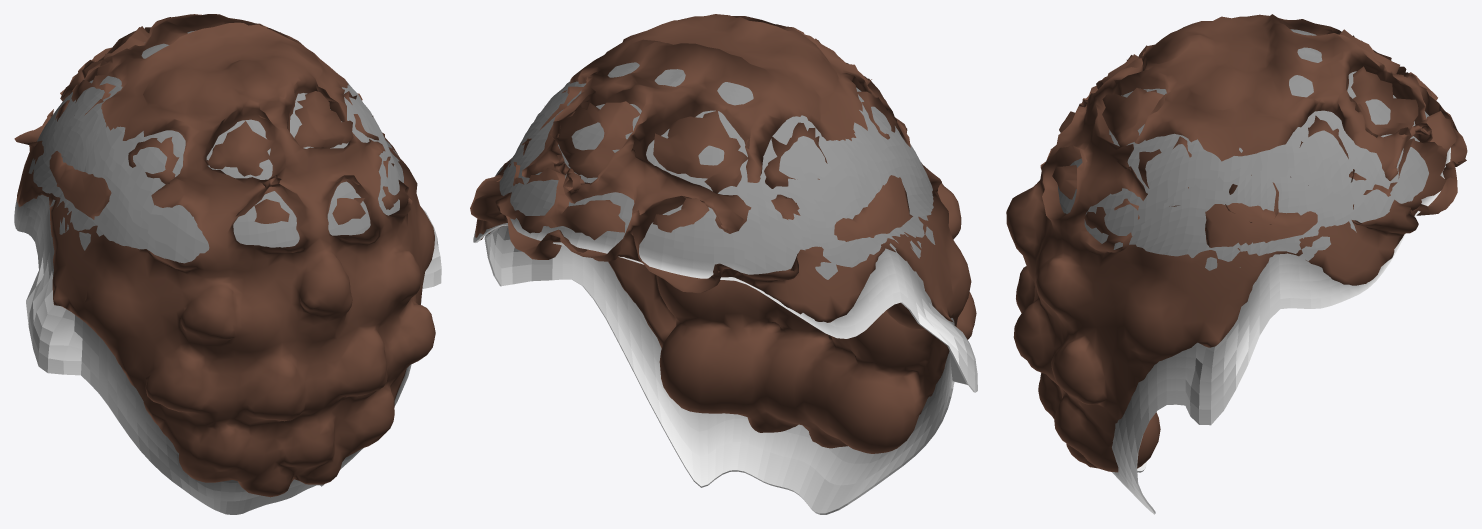
Rendered from hair_curly_f.glb.
3 renders of one model, left to right at view 1: azimuth 30°, elevation 25°; view 2: azimuth 150°, elevation 25°; view 3: azimuth 270°, elevation 25°, orthographic. The views are drawn at different scales.
Parts seen in each view (by area): view 1: Acc_hair_curly_HairCurly, Acc_hair_curly_HairFade; view 2: Acc_hair_curly_HairCurly, Acc_hair_curly_HairFade; view 3: Acc_hair_curly_HairCurly, Acc_hair_curly_HairFade.
Boxes of the visible parts, x1=… form: Acc_hair_curly_HairCurly: x1=14, y1=14, x2=435, y2=497; Acc_hair_curly_HairFade: x1=14, y1=30, x2=441, y2=514; Acc_hair_curly_HairCurly: x1=470, y1=14, x2=976, y2=453; Acc_hair_curly_HairFade: x1=473, y1=62, x2=977, y2=514; Acc_hair_curly_HairCurly: x1=1006, y1=14, x2=1467, y2=472; Acc_hair_curly_HairFade: x1=1058, y1=29, x2=1450, y2=514.
Size of the model in its own units: 0.4127 by 0.425 by 0.3884.
